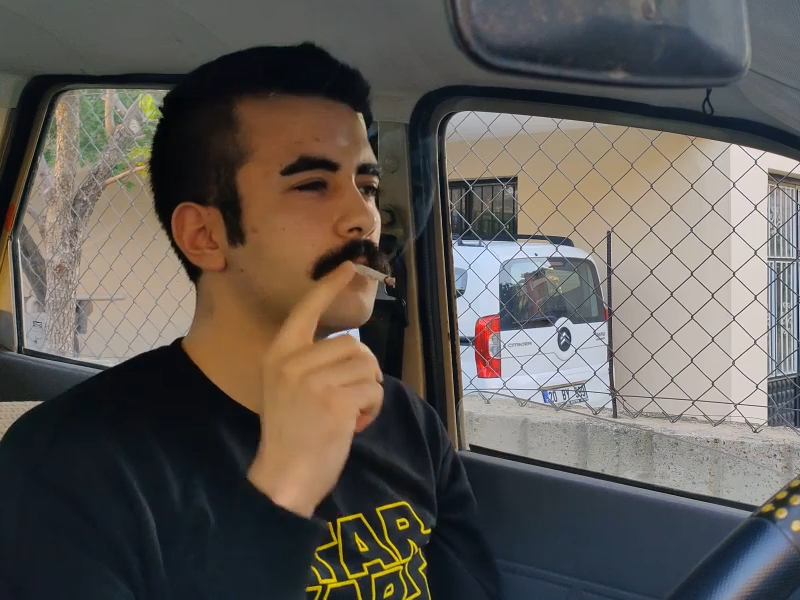sigara: (350, 261, 400, 292)
